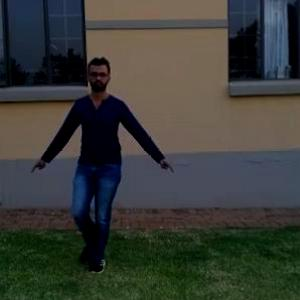land: (37, 74, 160, 244)
